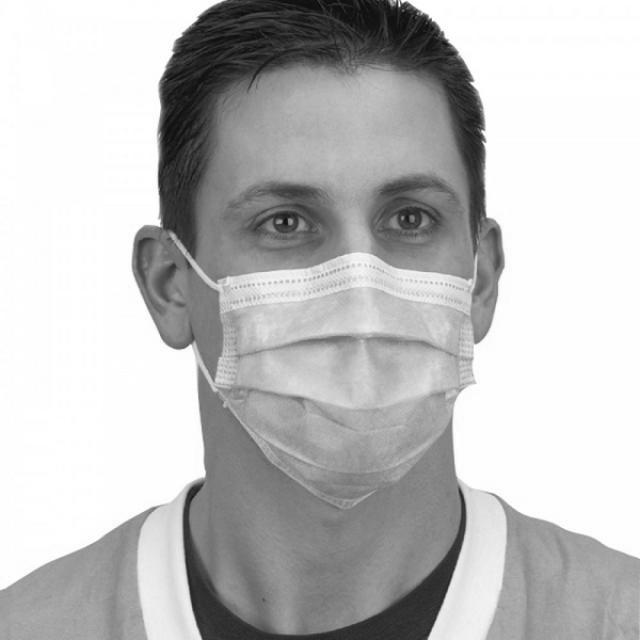fake: (206, 256, 483, 520)
real: (196, 65, 475, 522)
